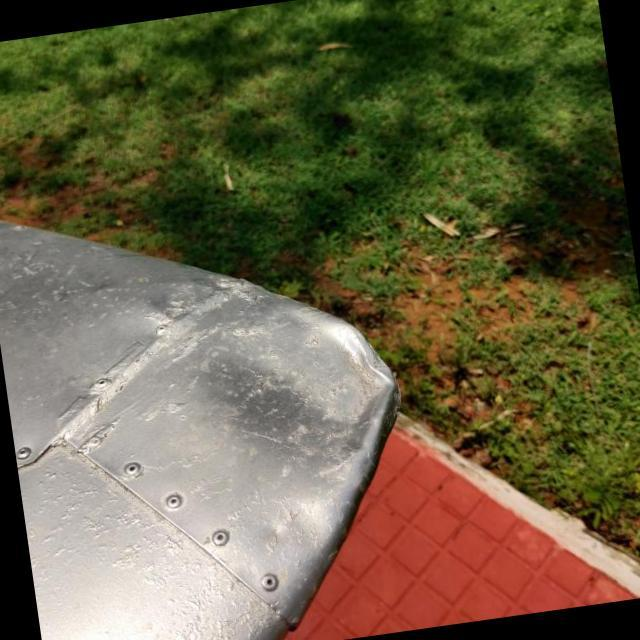Dent: (186, 288, 434, 507)
